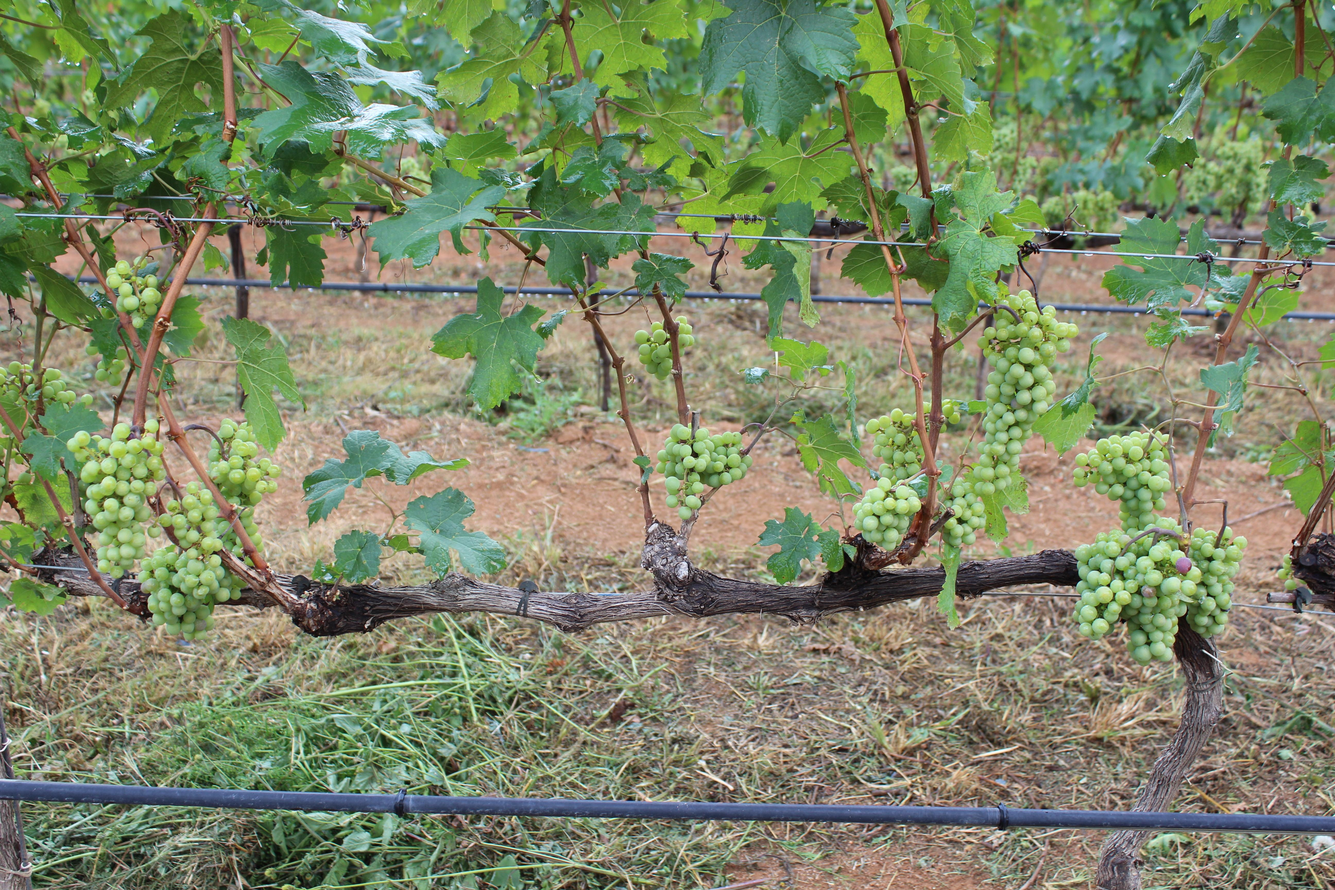leaf: (699, 0, 858, 142), (254, 61, 444, 158), (522, 168, 655, 288), (105, 10, 224, 144), (303, 430, 468, 524), (432, 278, 544, 410), (367, 166, 506, 267), (933, 171, 1017, 330), (437, 10, 547, 120), (572, 0, 688, 95), (724, 127, 853, 212), (223, 317, 304, 451), (252, 60, 362, 156), (616, 78, 722, 166), (1161, 18, 1236, 142), (1033, 332, 1108, 453), (405, 488, 506, 575), (259, 0, 391, 65), (290, 104, 446, 158), (1101, 255, 1209, 311), (794, 414, 866, 496), (1200, 344, 1258, 445), (758, 507, 826, 583), (1262, 77, 1335, 144), (409, 0, 504, 49), (347, 61, 438, 110), (1233, 25, 1295, 96), (256, 225, 327, 287), (32, 264, 96, 325), (560, 140, 626, 197), (440, 128, 517, 176), (933, 104, 993, 162), (632, 252, 694, 302), (1263, 209, 1327, 256), (1269, 155, 1329, 205), (1268, 420, 1322, 475), (181, 137, 231, 192), (769, 337, 832, 380), (40, 403, 104, 445), (841, 244, 892, 296), (162, 296, 206, 356), (21, 430, 69, 484), (332, 530, 381, 582), (1145, 309, 1209, 348), (549, 79, 599, 128), (0, 33, 43, 89), (1146, 133, 1199, 176), (837, 360, 862, 451), (8, 577, 66, 616), (13, 483, 61, 528), (0, 134, 35, 195), (1120, 218, 1179, 254), (1246, 288, 1300, 327), (1282, 465, 1324, 515), (938, 543, 961, 629), (0, 522, 37, 563), (1305, 29, 1330, 79), (535, 309, 569, 340), (1187, 220, 1218, 254), (52, 484, 72, 514), (311, 131, 333, 151), (834, 533, 838, 544), (839, 549, 842, 557), (802, 232, 808, 235), (1197, 328, 1205, 330), (831, 568, 837, 570), (970, 82, 972, 86), (349, 81, 355, 82), (308, 139, 311, 141), (99, 422, 100, 427), (974, 88, 976, 90), (835, 557, 838, 558), (688, 164, 689, 166), (400, 50, 401, 52), (971, 90, 972, 91), (1161, 171, 1162, 172), (832, 554, 833, 555), (373, 106, 374, 107), (1305, 511, 1305, 511), (841, 561, 841, 566)
